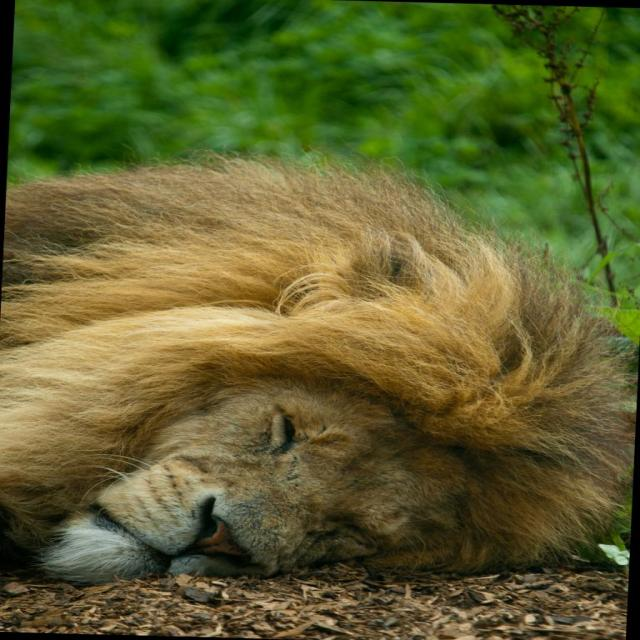Lion: (0, 136, 639, 603)
